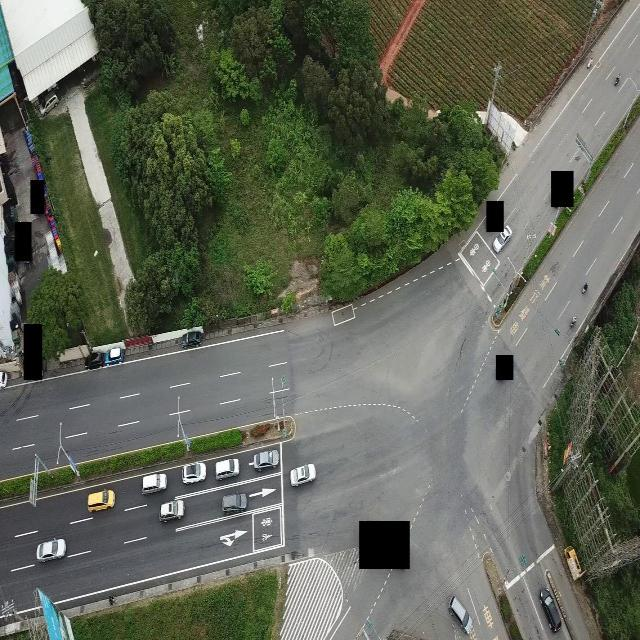bike: (569, 311, 578, 329), (580, 276, 588, 295), (615, 70, 622, 88)
car: (540, 586, 562, 632), (449, 595, 472, 635), (36, 536, 66, 565), (86, 486, 115, 514), (252, 446, 280, 474), (290, 462, 316, 489), (214, 454, 240, 481), (181, 459, 207, 485), (159, 497, 184, 524), (220, 491, 248, 515), (141, 471, 167, 495), (180, 327, 203, 350), (104, 345, 125, 367), (494, 226, 511, 253), (85, 347, 102, 370)
